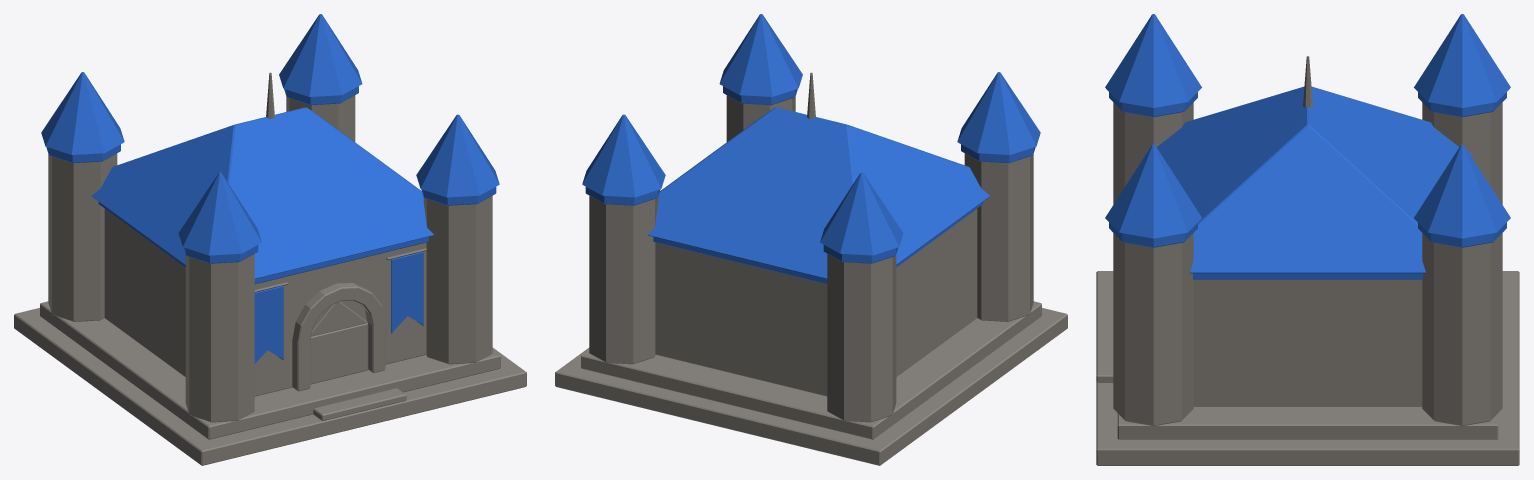
File: command_center.obj
3 views of the same model, side by side, from view 1: azimuth 30°, elevation 25°; view 2: azimuth 150°, elevation 25°; view 3: azimuth 270°, elevation 25° (orthographic). The views are drawn at different scales.
Visible parts, largest first — view 1: command_center; view 2: command_center; view 3: command_center.
Part boxes in pixels (x1,y1,x2,y2): command_center: (14, 14, 526, 465); command_center: (555, 14, 1067, 465); command_center: (1096, 14, 1519, 465).
Size of the model in its own units: 10 by 8.36 by 10.
